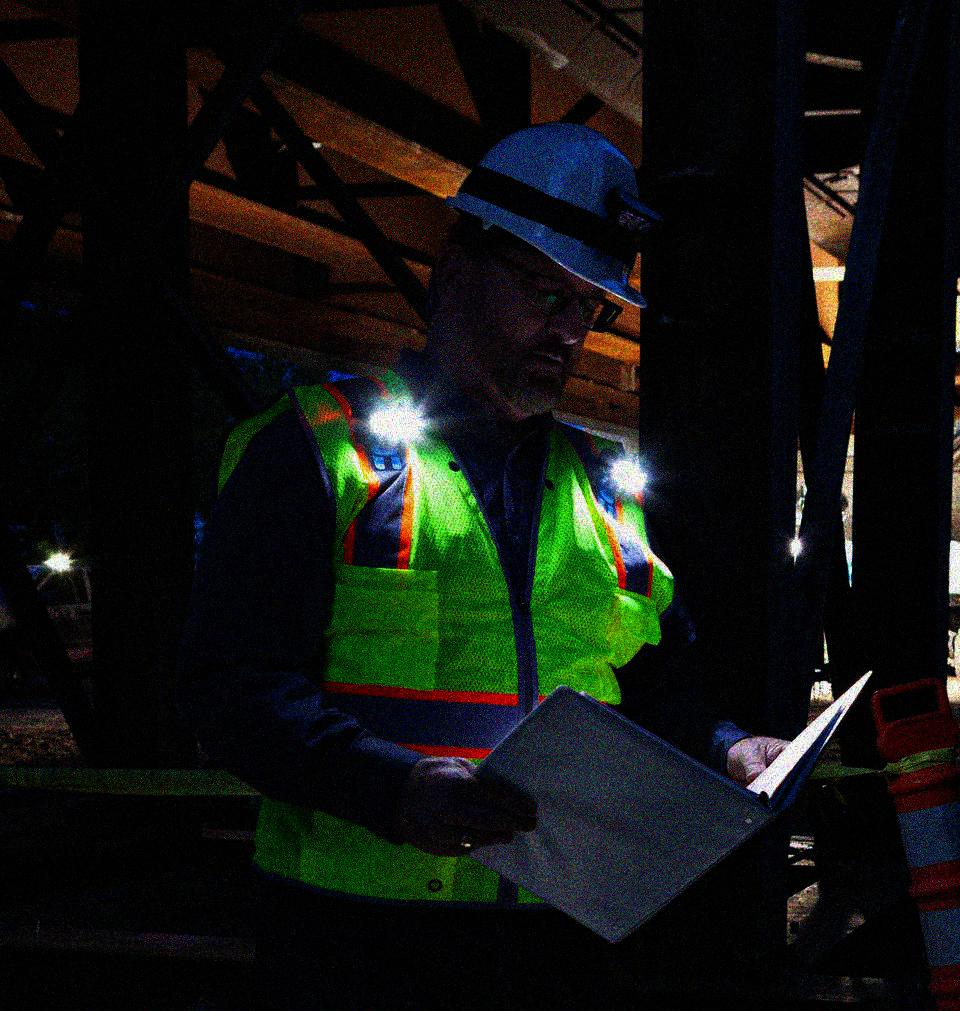helmet: (428, 122, 651, 416)
